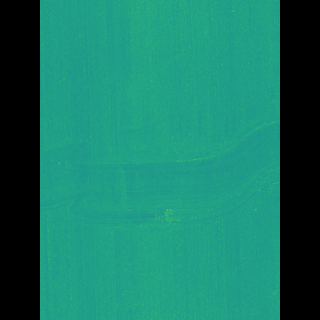Loch: (69, 93, 249, 239)
